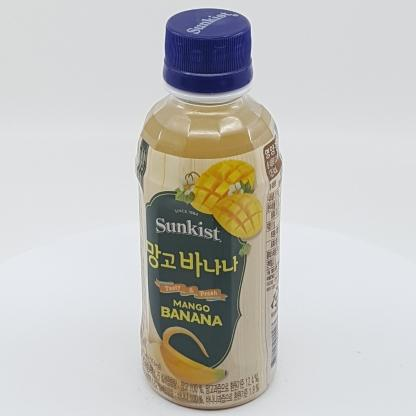-----------220ML: (134, 8, 283, 411)
